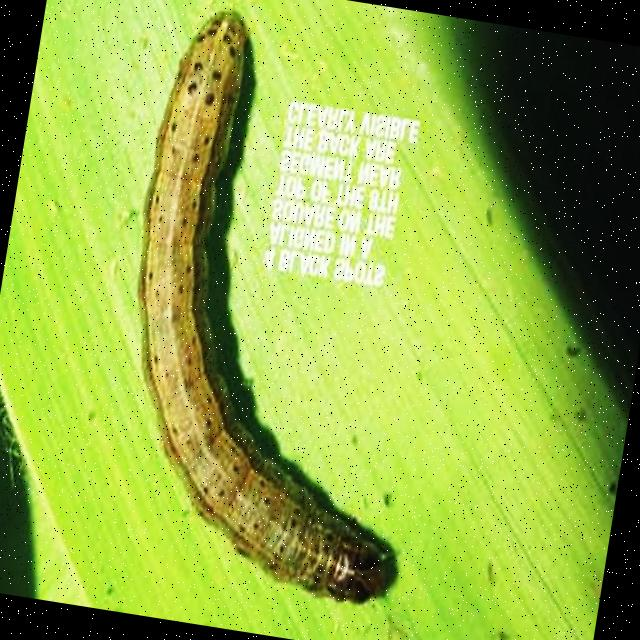worm: (87, 5, 480, 616)
